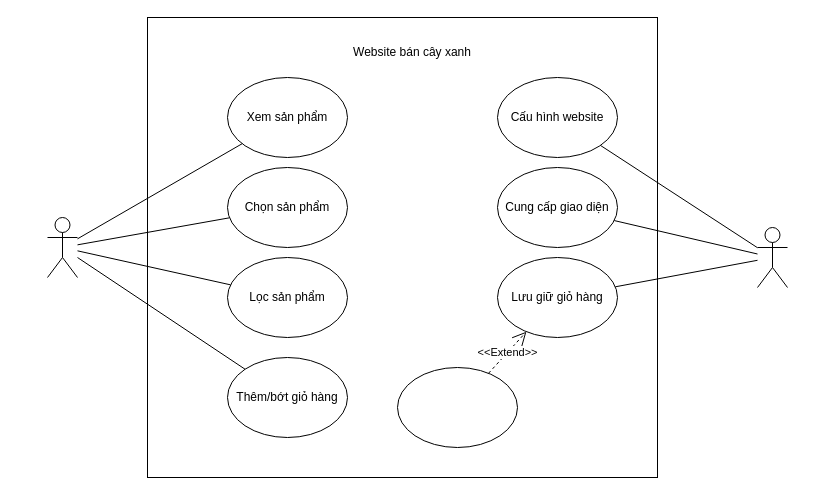
This 814x495 diagram has some shape labels left out. Here are the shapes that lost their labels. From the top down, the centre of each, then its label:
At (x=62, y=247): "Người mua hàng".
At (x=772, y=257): "Hệ thống".
At (x=457, y=407): "Tính toán thành tiền".
